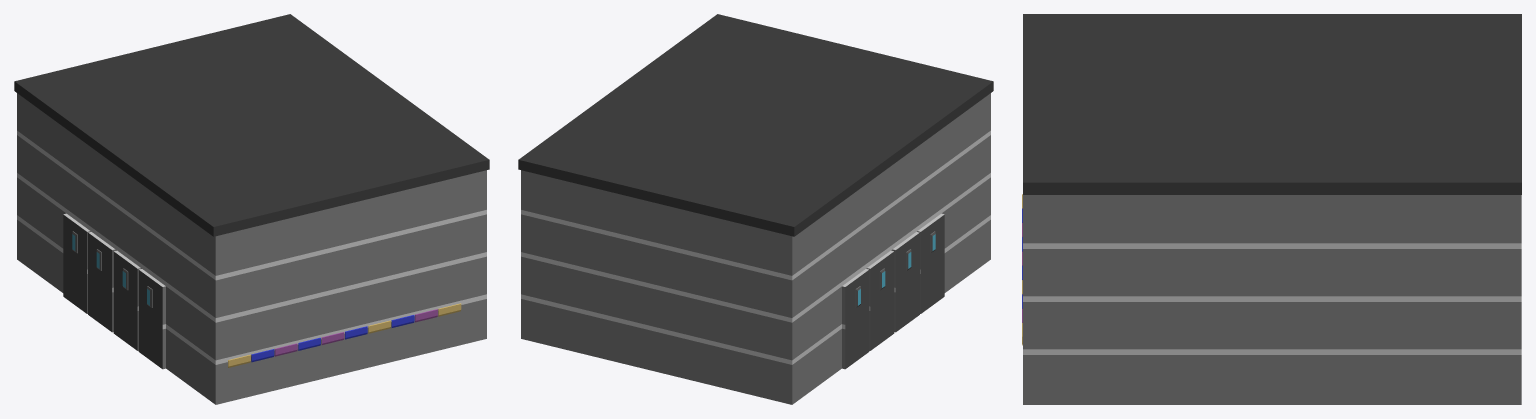
The model's file is Full Arcade.fbx.
3 views of the same model, side by side, from view 1: azimuth 30°, elevation 25°; view 2: azimuth 150°, elevation 25°; view 3: azimuth 270°, elevation 25° (orthographic). The views are drawn at different scales.
Parts seen in each view (by area): view 1: Plane, Cube; view 2: Plane, Cube; view 3: Plane, Cube.
Boxes of the visible parts, bbox=[...] form: Plane: bbox=[17, 93, 486, 404]; Cube: bbox=[14, 14, 489, 236]; Plane: bbox=[521, 93, 990, 404]; Cube: bbox=[518, 14, 993, 236]; Plane: bbox=[1022, 194, 1521, 404]; Cube: bbox=[1023, 14, 1521, 194].
Size of the model in its own units: 5964 by 3650 by 7391.
